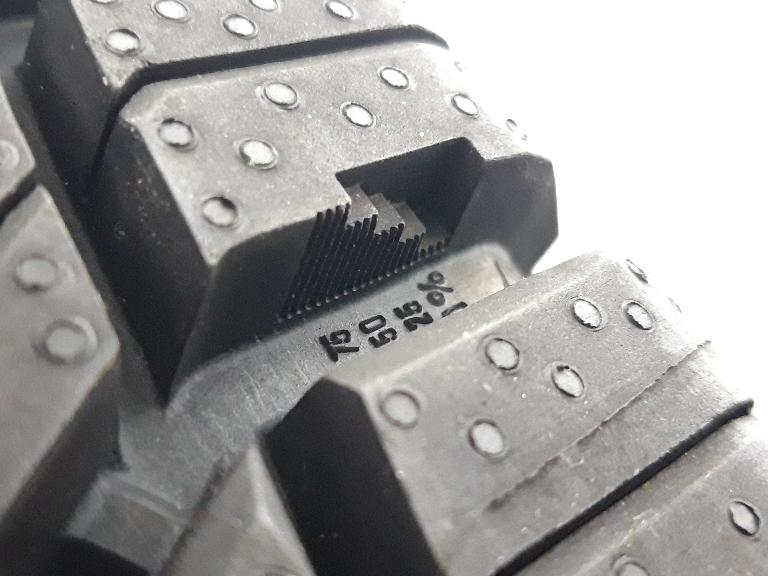temoin:100: (269, 128, 496, 331)
